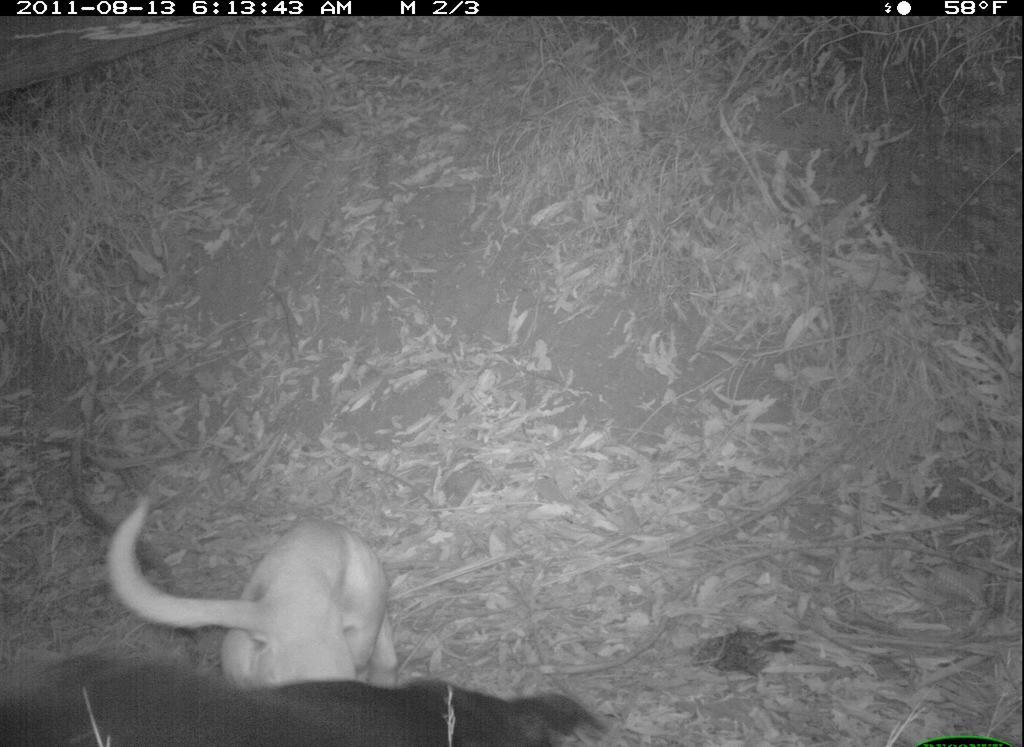dog: (91, 487, 416, 688), (7, 649, 614, 747)
